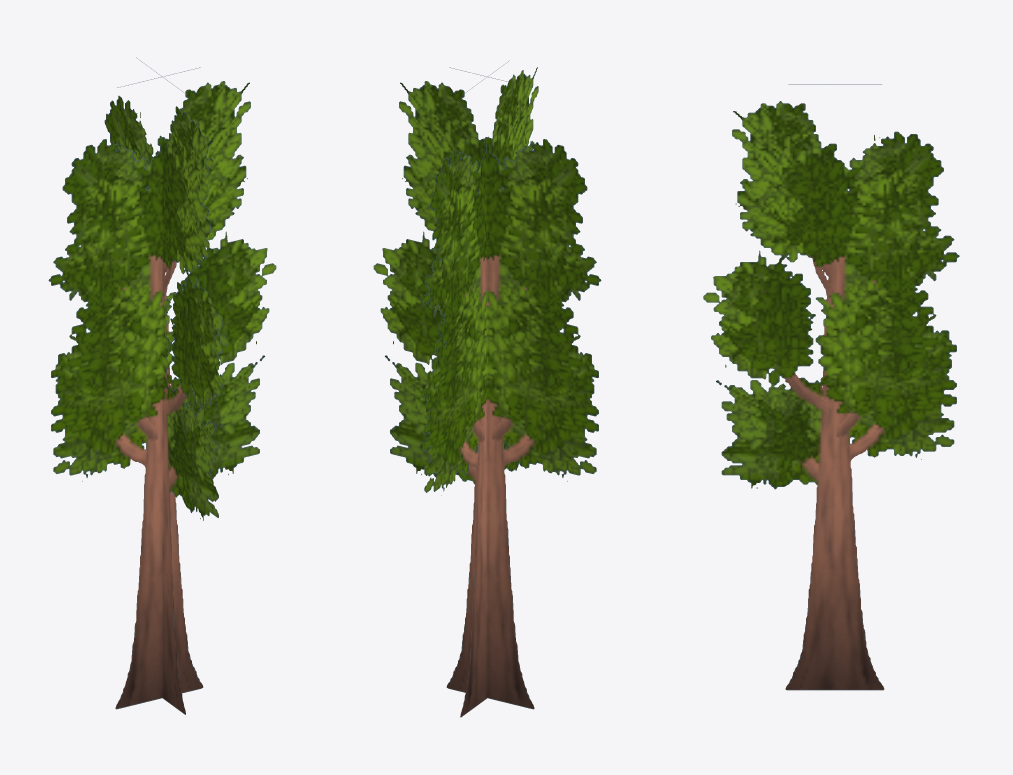
Rendered from commontree_3_3.glb.
The picture shows the model from 3 angles, left to right: view 1: azimuth 30°, elevation 25°; view 2: azimuth 150°, elevation 25°; view 3: azimuth 270°, elevation 25°; orthographic projection. The views are drawn at different scales.
Visible parts, largest first — view 1: commontree_3; view 2: commontree_3; view 3: commontree_3.
Boxes of the visible parts, x1,y1,x2,y2 form: commontree_3: (48, 57, 276, 714); commontree_3: (373, 60, 601, 717); commontree_3: (703, 84, 959, 690).
Bounding box in the file's own units: 4.71 × 9.43 × 4.71.
Materials: 1 (1 with a texture image).
